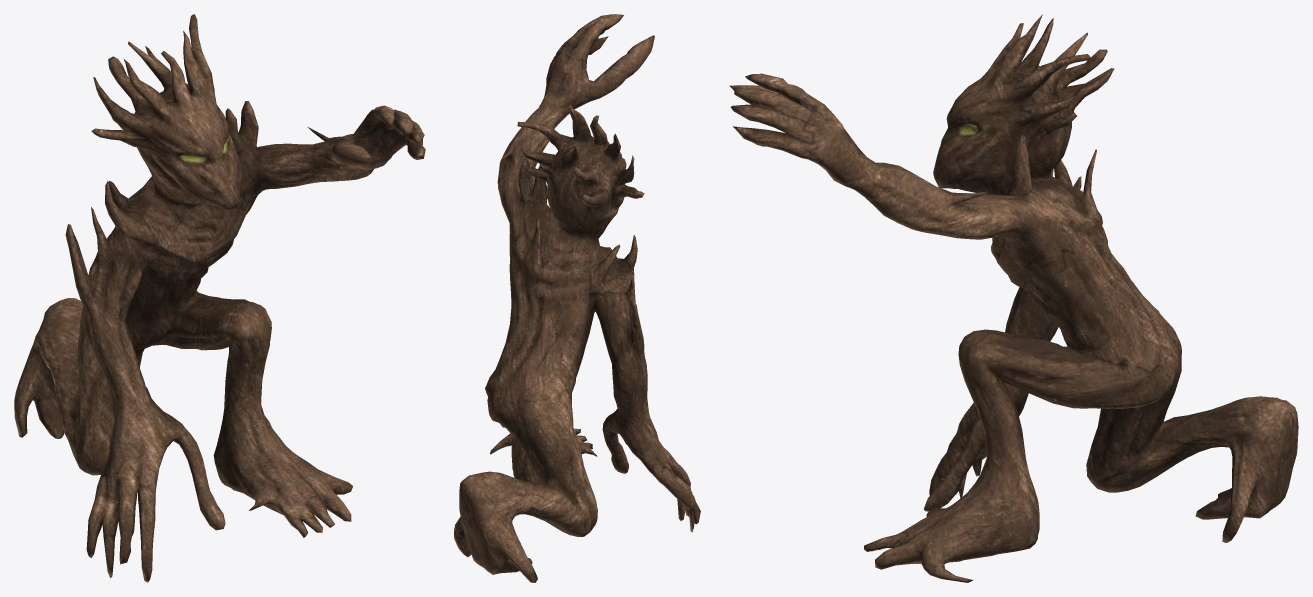
Rendered from MZ4250 - Twig Blight 2.glb.
3 views of the same model, side by side, from view 1: azimuth 30°, elevation 25°; view 2: azimuth 150°, elevation 25°; view 3: azimuth 270°, elevation 25° (orthographic). The views are drawn at different scales.
Parts seen in each view (by area): view 1: TwigBlight; view 2: TwigBlight; view 3: TwigBlight.
Part boxes in pixels (x1=…): TwigBlight: x1=14, y1=14, x2=425, y2=582; TwigBlight: x1=454, y1=14, x2=700, y2=582; TwigBlight: x1=729, y1=14, x2=1298, y2=582.
Bounding box in the file's own units: 0.3468 × 0.6581 × 0.6341.
1 material, 1 textured.
